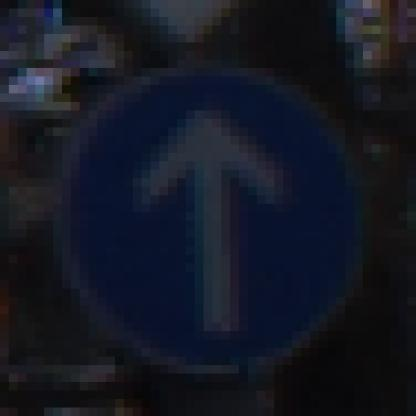AheadOnly: (54, 52, 373, 374)
